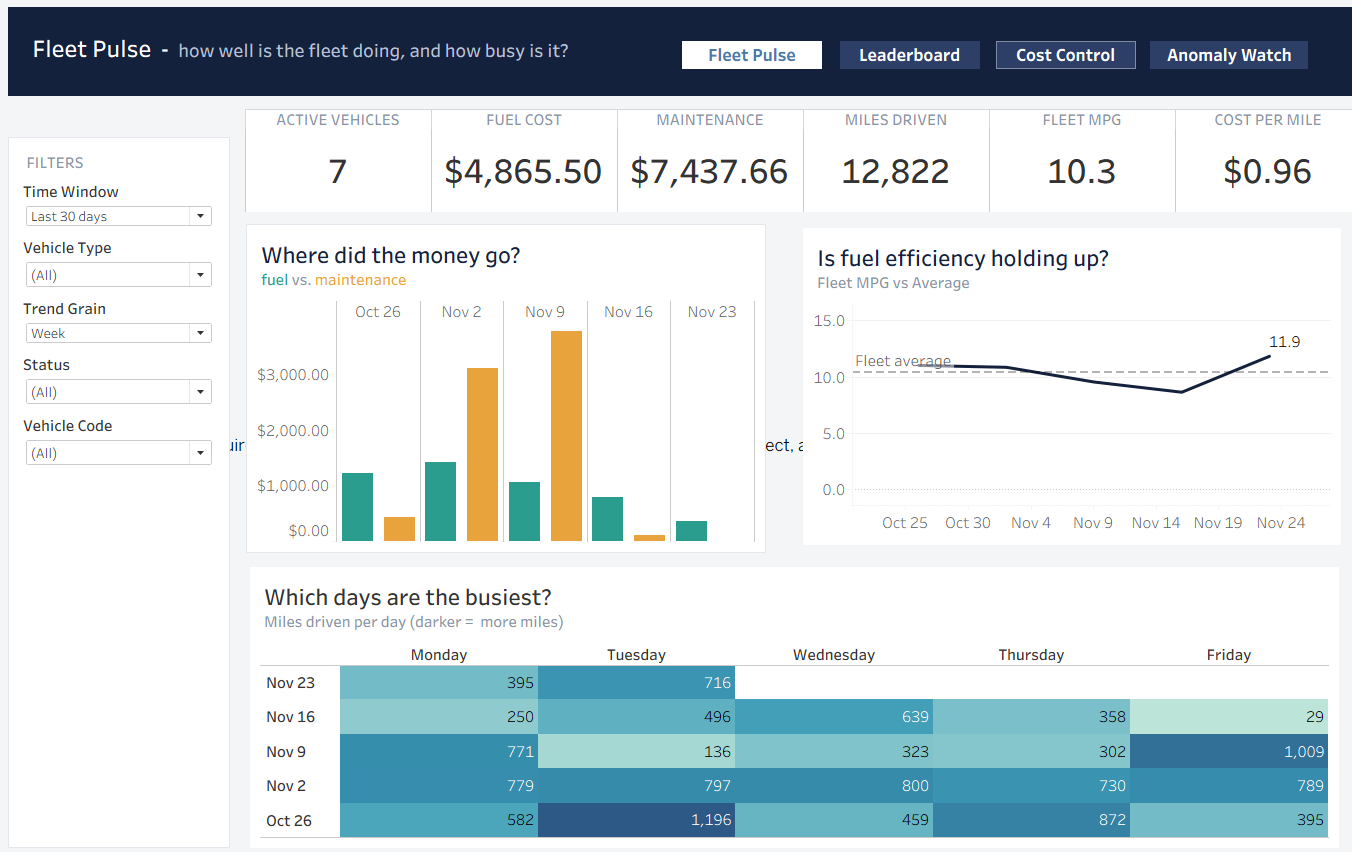

Layout of this report page (visuals, bound fields, positions):
{"tool":"tableau","page":{"name":"Fleet Pulse","canvas":[1400,900],"ordinal":2},"visuals":[{"type":"text","box":[40,37,578,32]},{"type":"dashboard-object","box":[693,46,140,28]},{"type":"dashboard-object","box":[851,46,140,28]},{"type":"dashboard-object","box":[1007,46,140,28]},{"type":"dashboard-object","box":[1161,46,158,28]},{"type":"worksheet","title":"KPIs","mark":"Automatic","box":[252,110,1125,111]},{"type":"text","box":[30,153,200,29]},{"type":"parameter","param":"[Parameters].[Parameter 0860095027589120]","box":[30,182,200,56]},{"type":"worksheet","title":"Spend Trend","mark":"Bar","cols":["Calculation_0860095031808005"],"box":[247,219,540,349]},{"type":"worksheet","title":"MPG Trend","mark":"Line","rows":["Calculation_0860095033303048"],"cols":["Calculation_0860095031808005"],"box":[804,223,558,337]},{"type":"filter","title":"Spend Trend","param":"[federated.0ieta591od6l6310zs0tm09nx7go].[none:vehicle_type:nk]","box":[30,238,200,61]},{"type":"parameter","param":"[Parameters].[Parameter 0860095028883457]","box":[30,299,200,56]},{"type":"filter","title":"Spend Trend","param":"[federated.0ieta591od6l6310zs0tm09nx7go].[none:status:nk]","box":[30,355,200,61]},{"type":"filter","title":"Spend Trend","param":"[federated.0ieta591od6l6310zs0tm09nx7go].[none:vehicle_code:nk]","box":[30,416,200,61]},{"type":"worksheet","title":"Weekly Rhythm","mark":"Square","rows":["Calculation_0860095119265802"],"cols":["event_date"],"box":[251,562,1109,301]}]}

Visuals, with their boxes in screenshot pixels (x1, y1, x2, y2), scaled from the page's 1400x900 canvas onto the 1352x852 screenshot:
text: x1=39, y1=35, x2=597, y2=65
dashboard-object: x1=669, y1=44, x2=804, y2=70
dashboard-object: x1=822, y1=44, x2=957, y2=70
dashboard-object: x1=972, y1=44, x2=1108, y2=70
dashboard-object: x1=1121, y1=44, x2=1274, y2=70
"KPIs" worksheet: x1=243, y1=104, x2=1330, y2=209
text: x1=29, y1=145, x2=222, y2=172
parameter: x1=29, y1=172, x2=222, y2=225
"Spend Trend" worksheet (Bar marks): x1=239, y1=207, x2=760, y2=538
"MPG Trend" worksheet (Line marks): x1=776, y1=211, x2=1315, y2=530
"Spend Trend" filter: x1=29, y1=225, x2=222, y2=283
parameter: x1=29, y1=283, x2=222, y2=336
"Spend Trend" filter: x1=29, y1=336, x2=222, y2=394
"Spend Trend" filter: x1=29, y1=394, x2=222, y2=452
"Weekly Rhythm" worksheet (Square marks): x1=242, y1=532, x2=1313, y2=817
